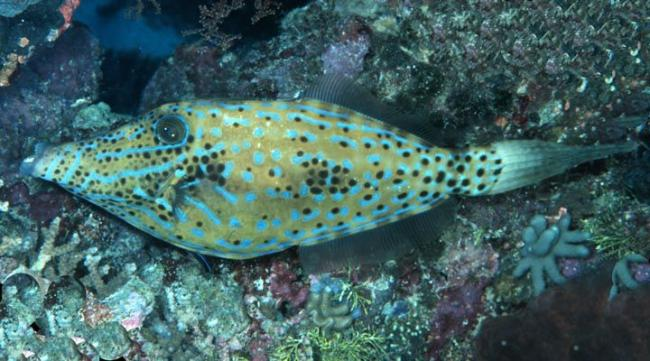fish: (21, 97, 641, 261)
